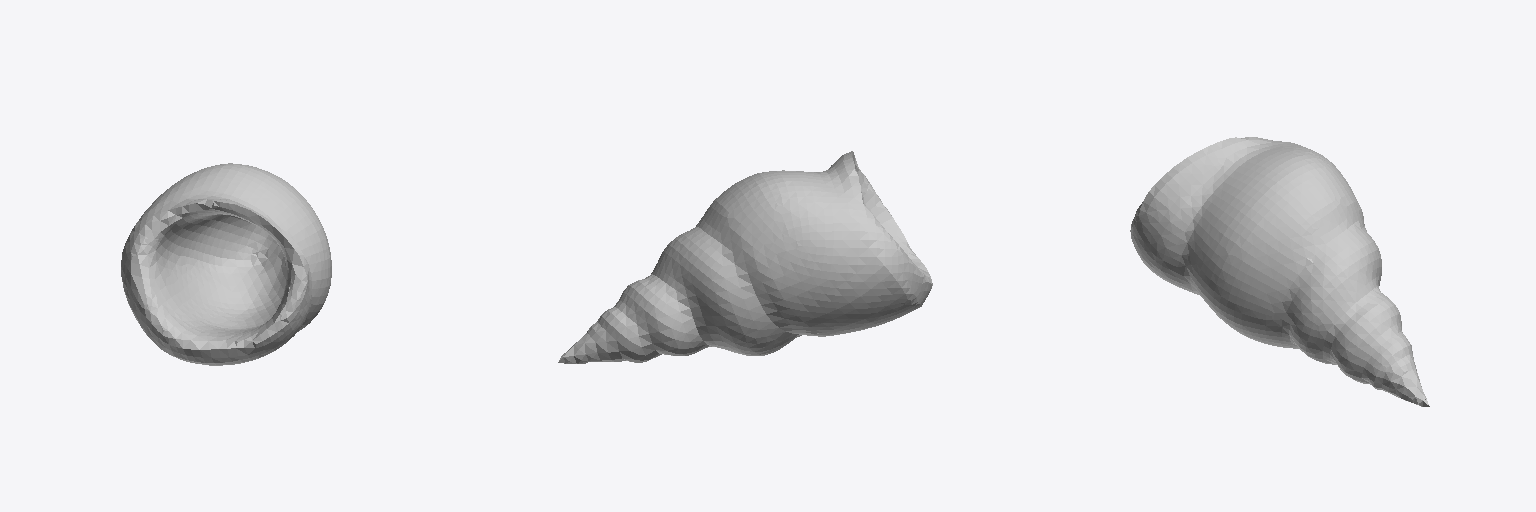
The model's file is smooth-shell.obj.
The picture shows the model from 3 angles: view 1: azimuth 30°, elevation 25°; view 2: azimuth 150°, elevation 25°; view 3: azimuth 270°, elevation 25°; orthographic projection.
Visible parts, largest first — view 1: shell-instant; view 2: shell-instant; view 3: shell-instant.
Boxes of the visible parts, x1,y1,x2,y2 form: shell-instant: [121, 163, 331, 365]; shell-instant: [558, 151, 932, 363]; shell-instant: [1130, 137, 1429, 406].
Size of the model in its own units: 5.63 by 3.49 by 5.4.